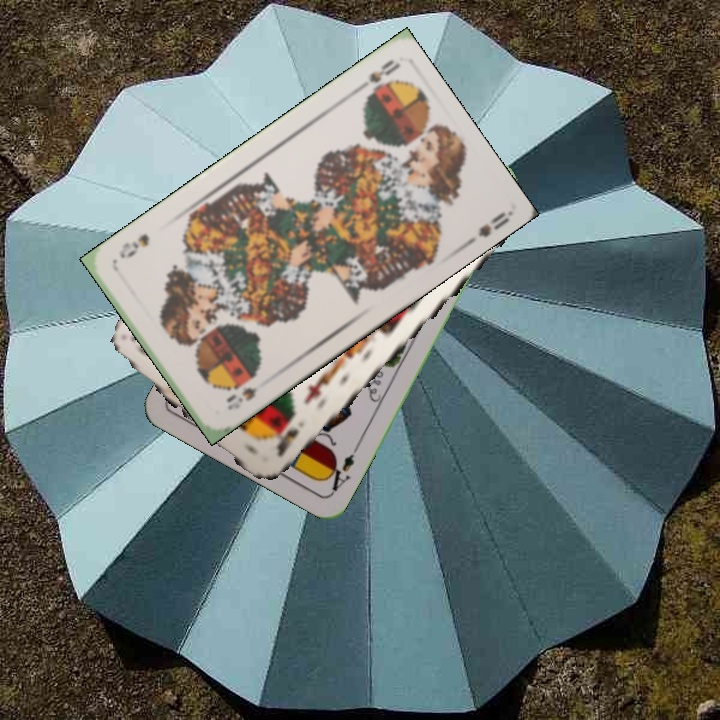EA: (321, 449, 357, 495)
SK: (272, 424, 301, 460)
SO: (348, 55, 402, 97), (222, 370, 260, 413)
